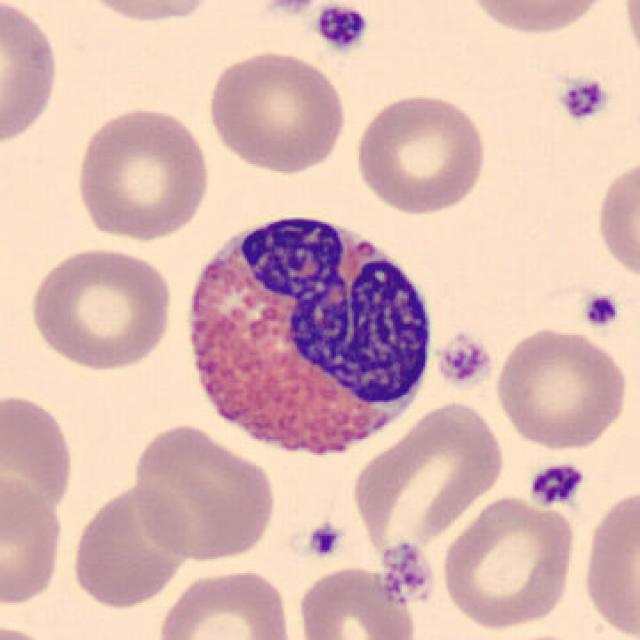Eosinophil: (172, 196, 442, 476)
Platelets: (375, 539, 437, 603), (432, 332, 498, 392), (311, 0, 371, 56), (554, 74, 612, 125), (526, 462, 587, 508), (302, 520, 347, 563), (580, 289, 622, 332), (263, 0, 317, 16)
RBC: (347, 397, 510, 552), (126, 420, 279, 564), (71, 102, 213, 244), (25, 243, 176, 372), (438, 494, 580, 631), (202, 48, 348, 176), (350, 88, 491, 217), (491, 325, 631, 453), (70, 489, 196, 608), (153, 564, 297, 640), (0, 386, 78, 526), (294, 562, 422, 640), (0, 0, 64, 153), (578, 483, 640, 640), (0, 472, 68, 608), (592, 150, 638, 287), (459, 0, 617, 39), (69, 0, 225, 26), (618, 0, 640, 76), (0, 620, 62, 640)
